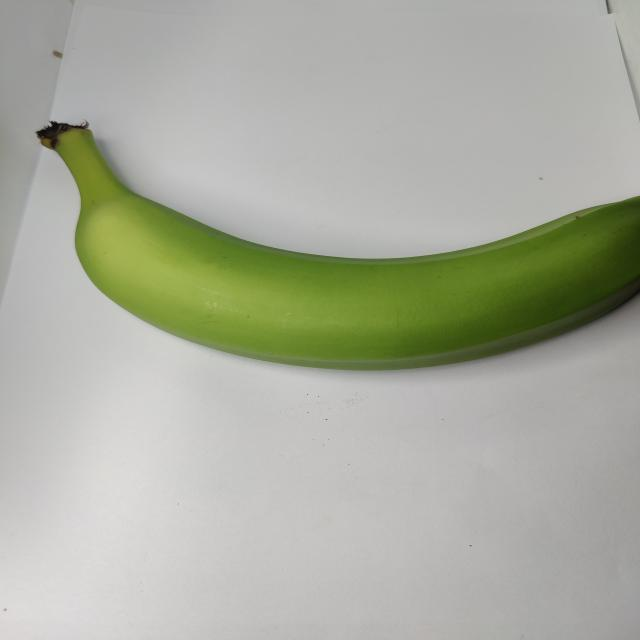raw: (19, 93, 640, 432)
